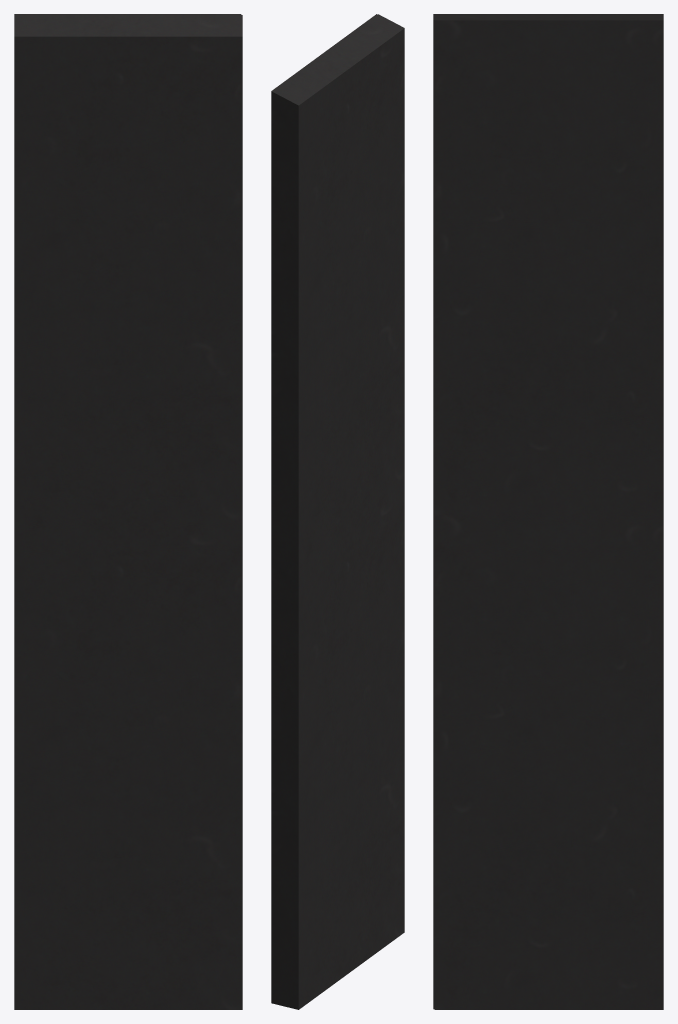
The model's file is A13.1.1 H.WALL. PNL 4748.fbx.
3 renders of one model, left to right at view 1: azimuth 90°, elevation 25°; view 2: azimuth 150°, elevation 25°; view 3: azimuth 270°, elevation 25°, orthographic. The views are drawn at different scales.
Parts seen in each view (by area): view 1: Model; view 2: Model; view 3: Model.
Part boxes in pixels (left/top/right/bottom): Model: left=14, top=14, right=242, bottom=1009; Model: left=271, top=14, right=404, bottom=1009; Model: left=433, top=14, right=663, bottom=1009.
Size of the model in its own units: 150 by 4748 by 1000.
